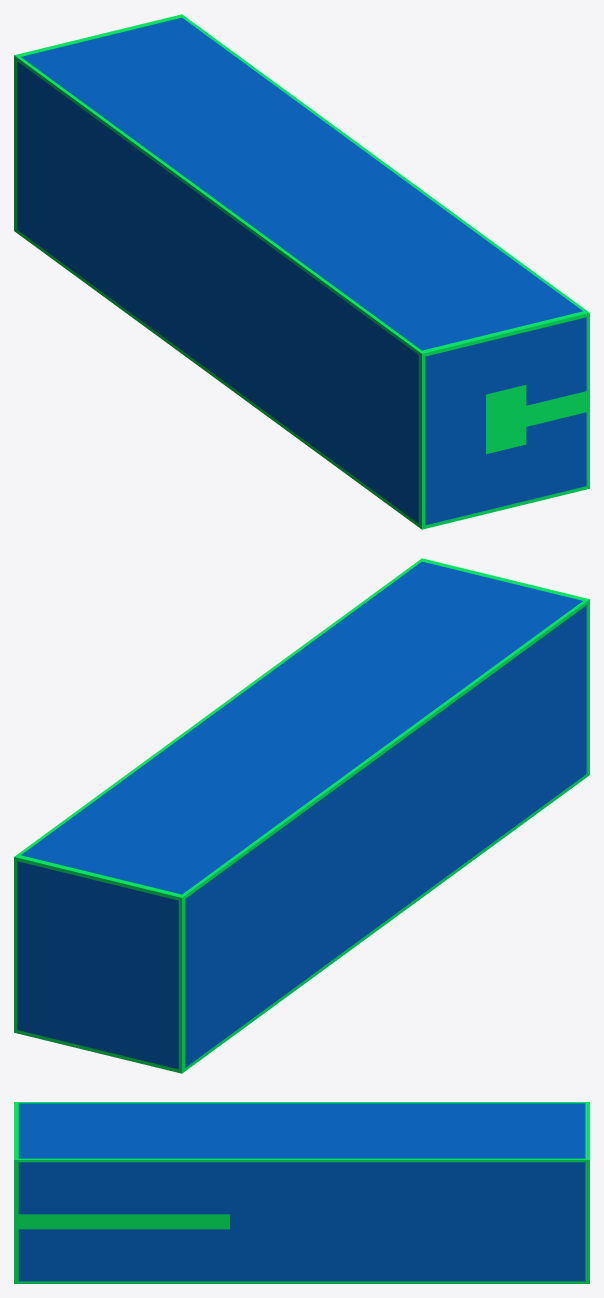
The model's file is SmallArm.fbx.
3 views of the same model, one above another, from view 1: azimuth 30°, elevation 25°; view 2: azimuth 150°, elevation 25°; view 3: azimuth 270°, elevation 25° (orthographic). The views are drawn at different scales.
Visible parts, largest first — view 1: Mesh; view 2: Mesh; view 3: Mesh.
Part boxes in pixels (<box>): Mesh: <box>14,14,589,529</box>; Mesh: <box>14,558,589,1073</box>; Mesh: <box>14,1102,589,1283</box>.
Bounding box in the file's own units: 6.18 × 6.18 × 26.
Materials: 1 (1 with a texture image).
